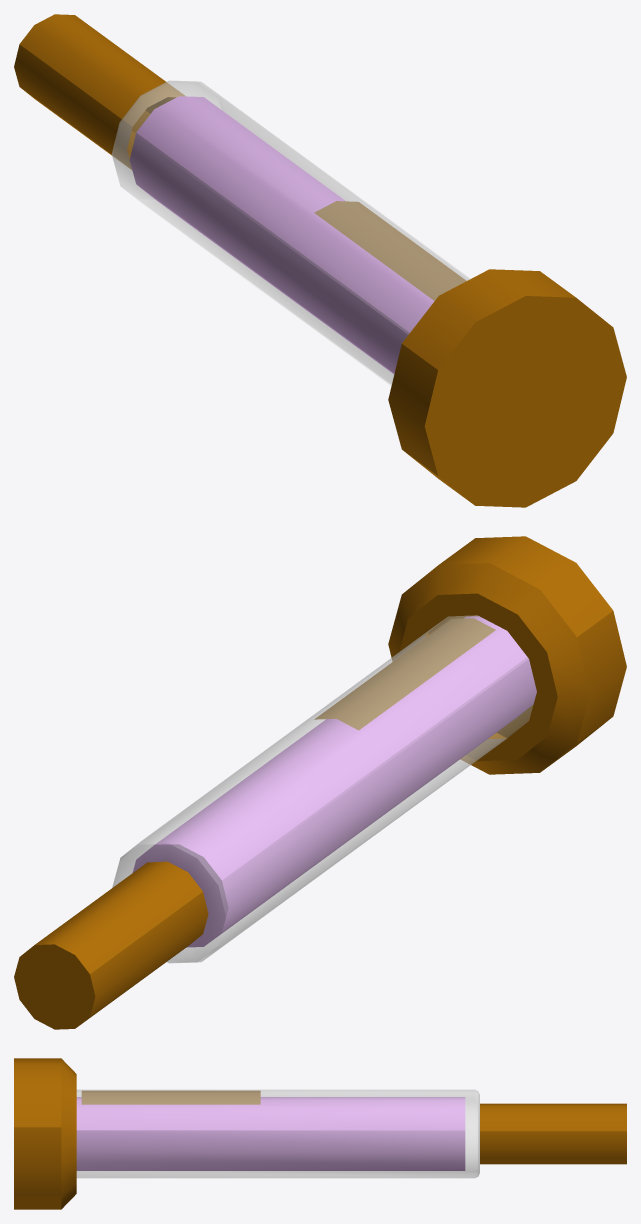
File: Bottled Pical Anlon.fbx
The picture shows the model from 3 angles, top to bottom: view 1: azimuth 30°, elevation 25°; view 2: azimuth 150°, elevation 25°; view 3: azimuth 270°, elevation 25°; orthographic projection. The views are drawn at different scales.
Visible parts, largest first — view 1: Bottled Pical Anlon; view 2: Bottled Pical Anlon; view 3: Bottled Pical Anlon.
Part boxes in pixels (x1,y1,x2,y2): Bottled Pical Anlon: (14, 14, 626, 507); Bottled Pical Anlon: (14, 536, 626, 1029); Bottled Pical Anlon: (14, 1058, 626, 1209).
Size of the model in its own units: 14.31 by 14.31 by 57.69.
